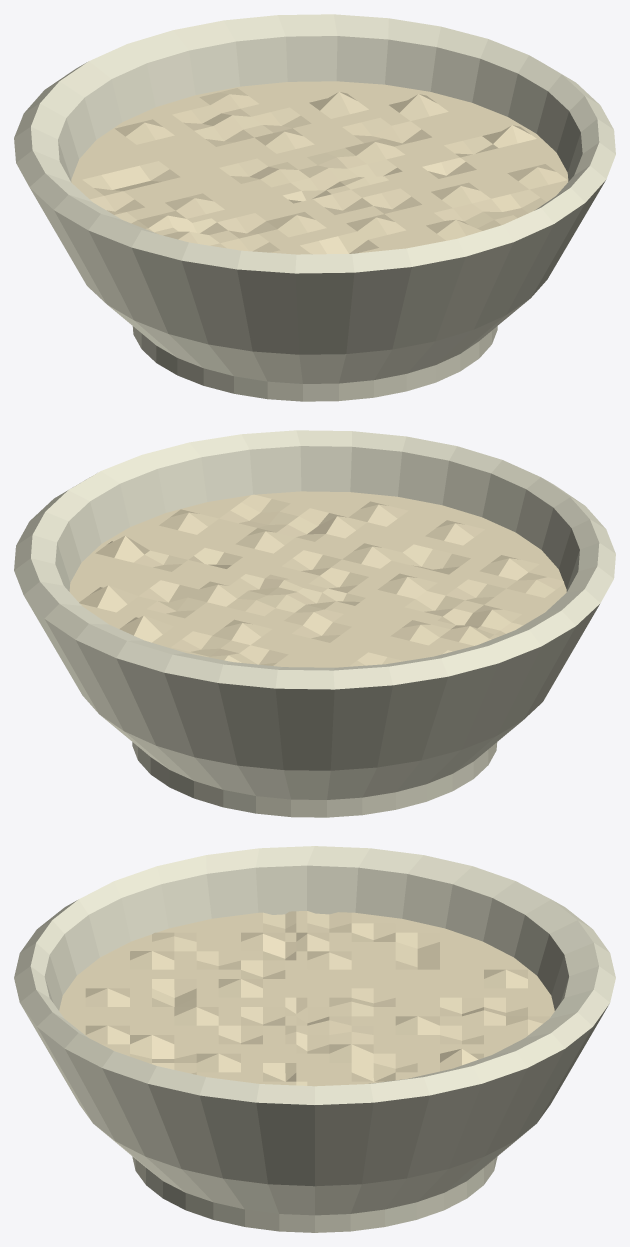
Rendered from Powder_Yeast.glb.
The picture shows the model from 3 angles, top to bottom: view 1: azimuth 30°, elevation 25°; view 2: azimuth 150°, elevation 25°; view 3: azimuth 270°, elevation 25°; orthographic projection.
Visible parts, largest first — view 1: powder_yeast.001; view 2: powder_yeast.001; view 3: powder_yeast.001.
Boxes of the visible parts, x1,y1,x2,y2 form: powder_yeast.001: (14,14,615,401); powder_yeast.001: (14,430,615,817); powder_yeast.001: (14,846,615,1232).
Size of the model in its own units: 0.4852 by 0.1686 by 0.4852.
